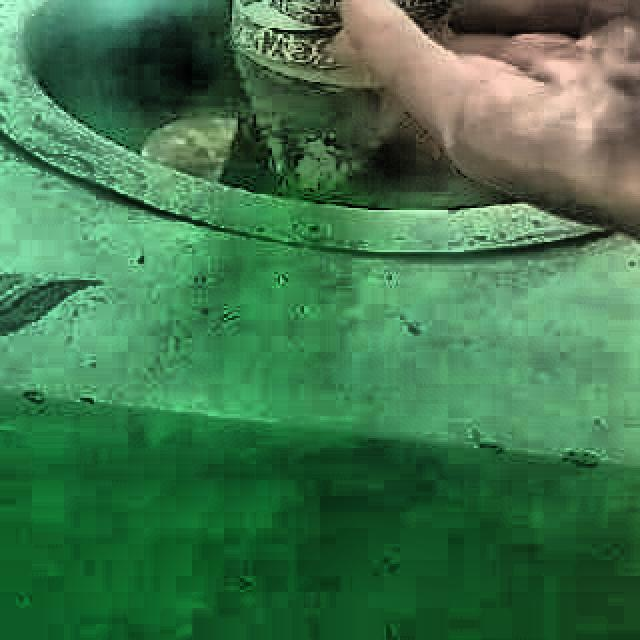glass: (224, 0, 405, 184)
